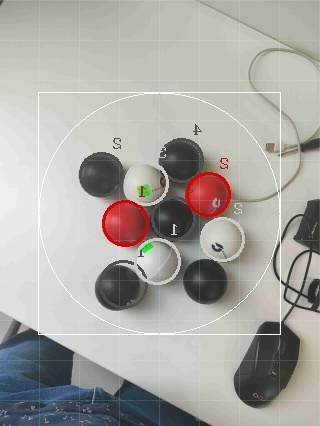Pelota blanca: (247, 44, 320, 144), (218, 126, 302, 203), (95, 260, 151, 312), (135, 236, 183, 286), (199, 214, 246, 264), (79, 150, 124, 198), (122, 161, 169, 206)
Pelota negra: (0, 331, 204, 425), (234, 323, 302, 411), (157, 137, 207, 182), (183, 257, 230, 304), (79, 150, 124, 198), (151, 198, 196, 240)
Pelota roja: (183, 169, 233, 219), (101, 198, 151, 248)
